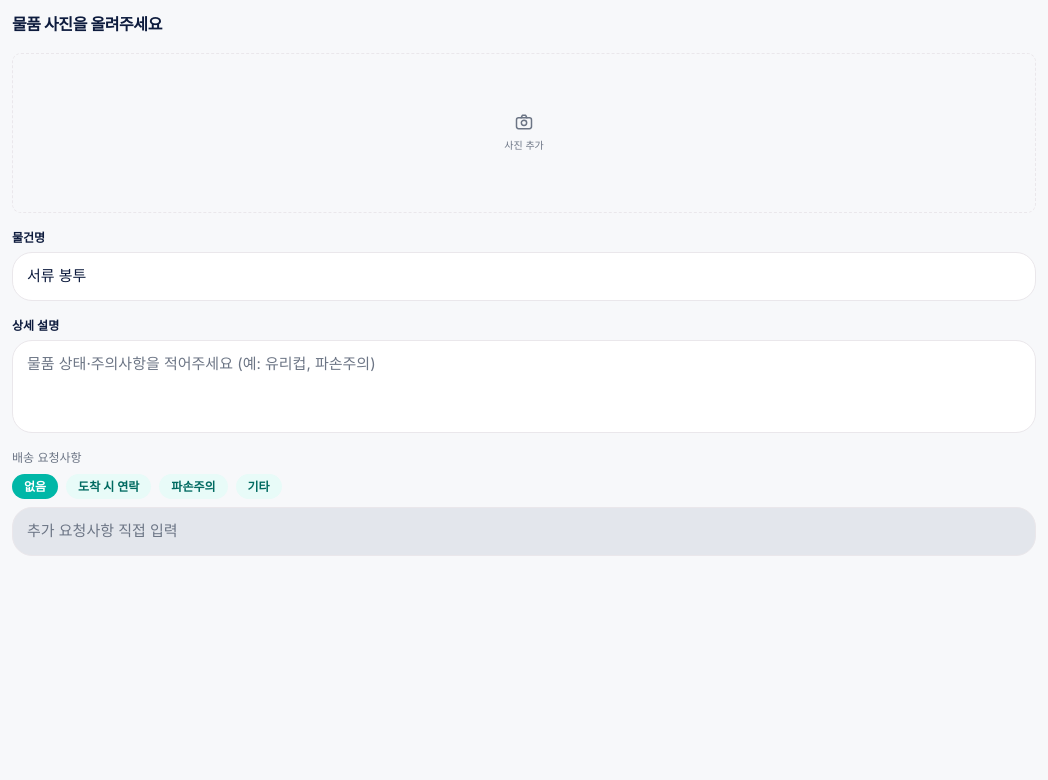
Test case: StepPhoto 배송 요청사항 › "기타"가 아닌 태그로 옮기면 직접 입력값을 비우고 비활성화한다
This screenshot has width=1048, height=780.
Step 1. Click the radio button labelled "기타" → {"x": 259, "y": 487}, box top-left (236, 474), bottom-right (282, 499)
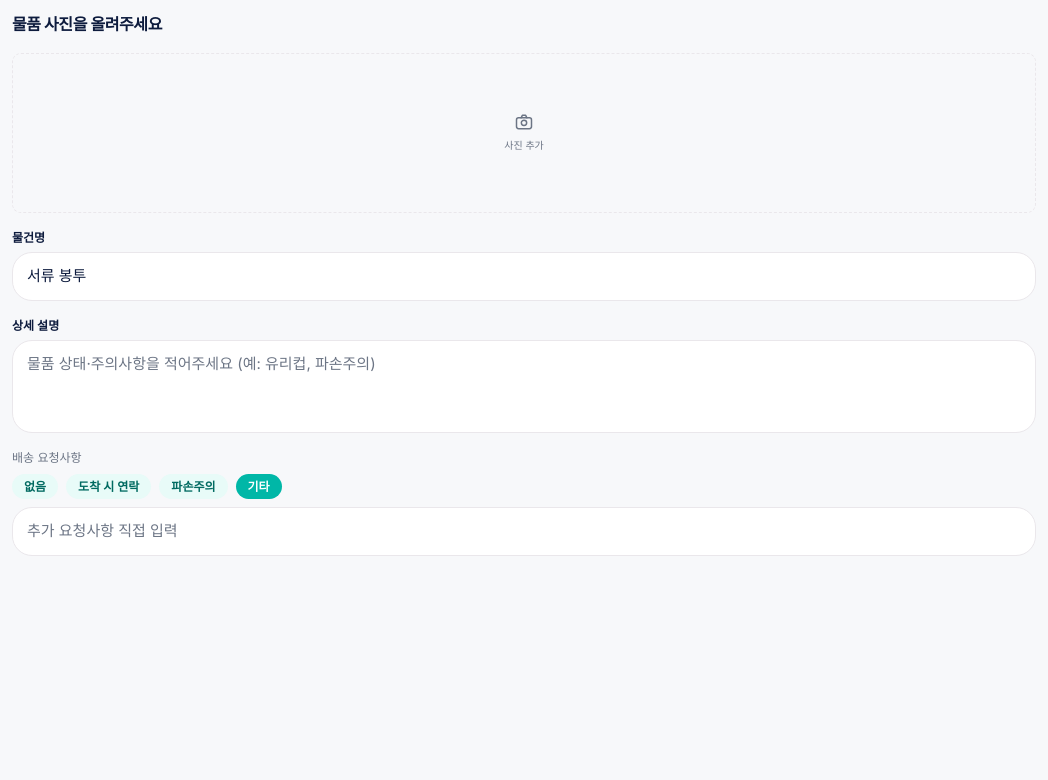
Step 2. Type "문 앞에 놓아주세요" into the field with placeholder "추가 요청사항 직접 입력" → {"x": 524, "y": 532}, box top-left (27, 520), bottom-right (1021, 543)
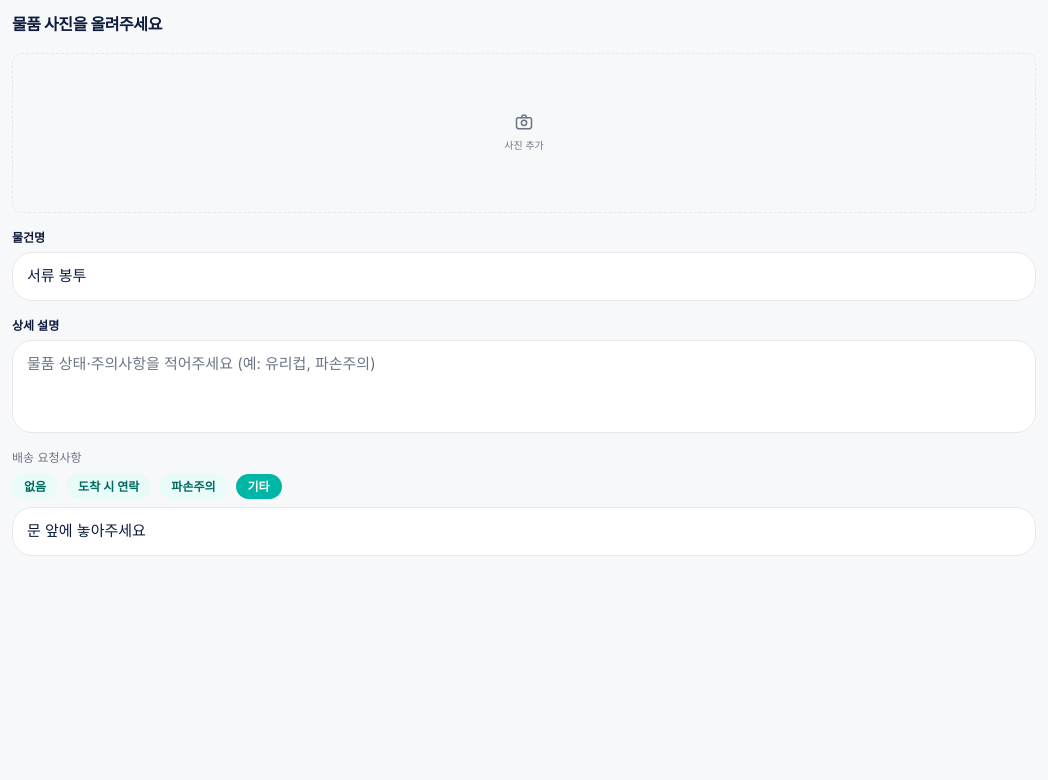
Step 3. Click the radio button labelled "도착 시 연락" → {"x": 109, "y": 487}, box top-left (66, 474), bottom-right (151, 499)
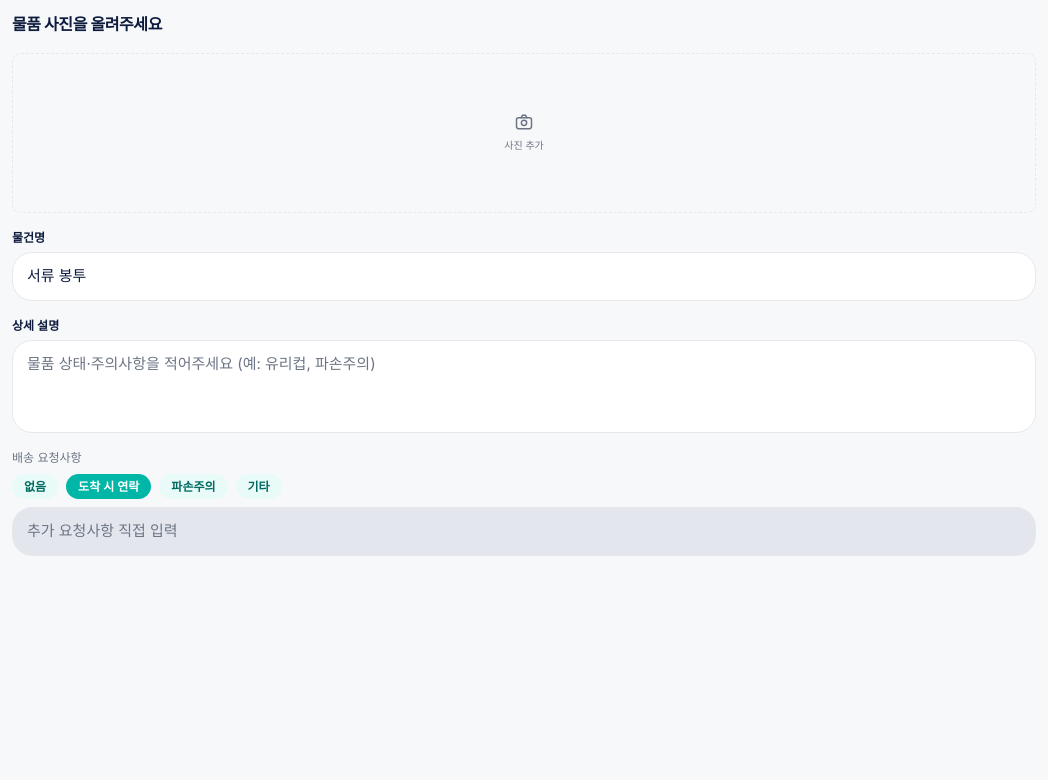
Result: the field with placeholder "추가 요청사항 직접 입력" is disabled at top-left (27, 520), bottom-right (1021, 543)
Result: the field with placeholder "추가 요청사항 직접 입력" is empty at top-left (27, 520), bottom-right (1021, 543)
